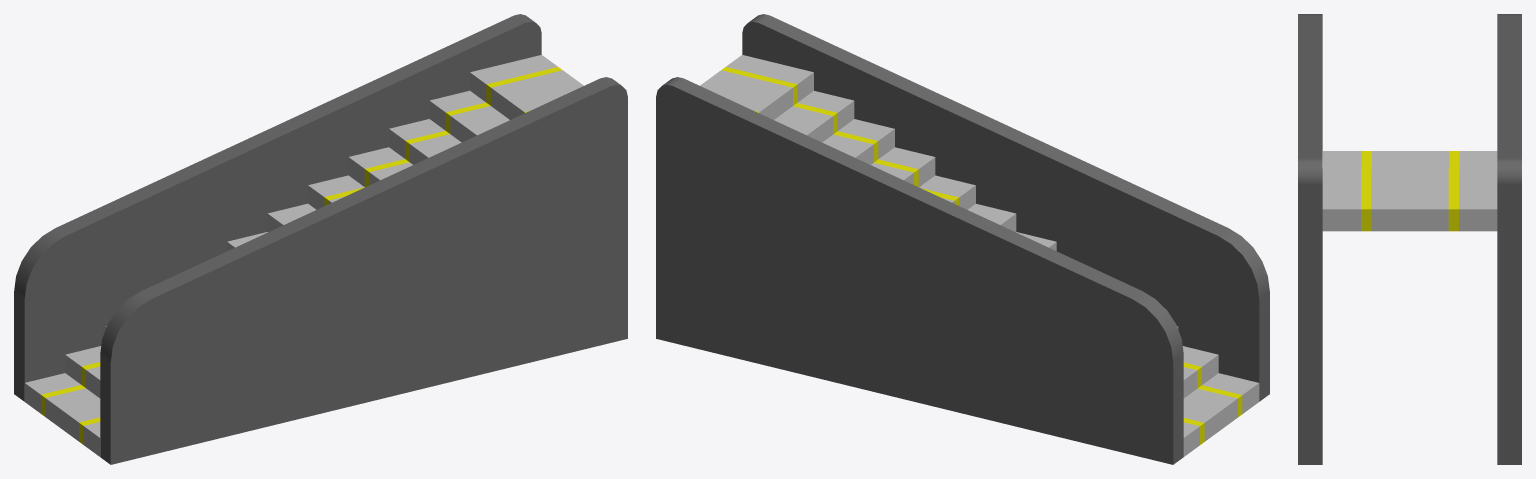
The model's file is Escalator.fbx.
The picture shows the model from 3 angles, left to right: view 1: azimuth 30°, elevation 25°; view 2: azimuth 150°, elevation 25°; view 3: azimuth 270°, elevation 25°; orthographic projection. The views are drawn at different scales.
Visible parts, largest first — view 1: pCube14, pCube13, pCube15; view 2: pCube13, pCube14, pCube15; view 3: pCube15, pCube13, pCube14.
Part boxes in pixels (bbox=[...]): pCube14: bbox=[100, 77, 627, 464]; pCube13: bbox=[14, 14, 541, 401]; pCube15: bbox=[24, 55, 583, 456]; pCube13: bbox=[656, 77, 1183, 464]; pCube14: bbox=[742, 14, 1269, 401]; pCube15: bbox=[700, 55, 1259, 456]; pCube15: bbox=[1322, 151, 1497, 231]; pCube13: bbox=[1497, 14, 1521, 464]; pCube14: bbox=[1298, 14, 1322, 464].
Size of the model in its own units: 18.73 by 8.89 by 6.06.
